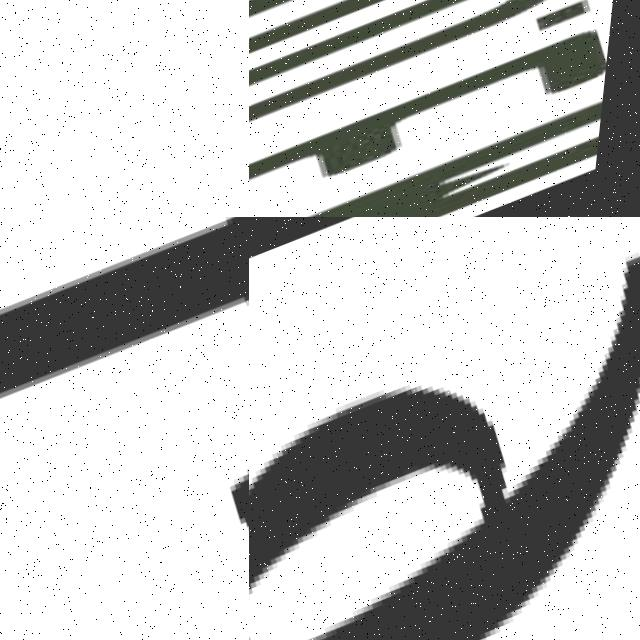9: (249, 246, 640, 640)
B: (249, 0, 558, 71)
D: (249, 0, 576, 130)
E: (249, 19, 619, 217)
L: (0, 217, 249, 640), (0, 0, 249, 217)
M: (249, 93, 613, 217)
U: (249, 0, 607, 192)
